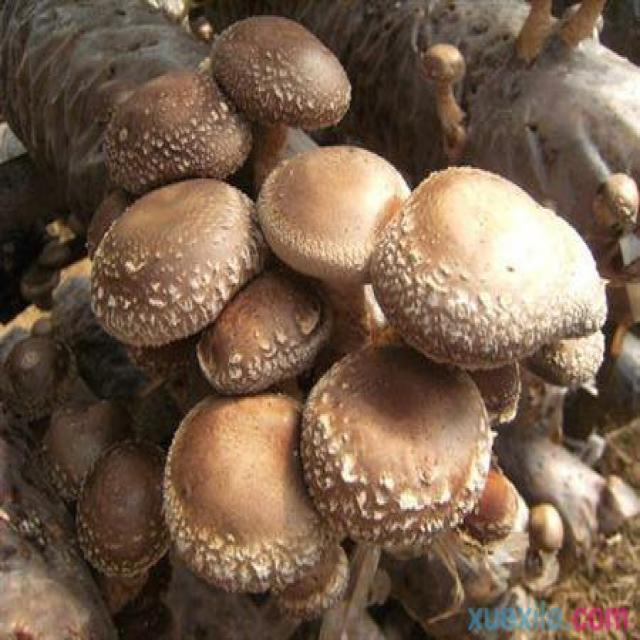Lentinus edodes: (373, 166, 609, 368), (304, 333, 494, 541), (168, 387, 339, 589), (92, 182, 262, 342), (107, 70, 255, 186), (198, 270, 339, 390), (213, 14, 352, 124)
